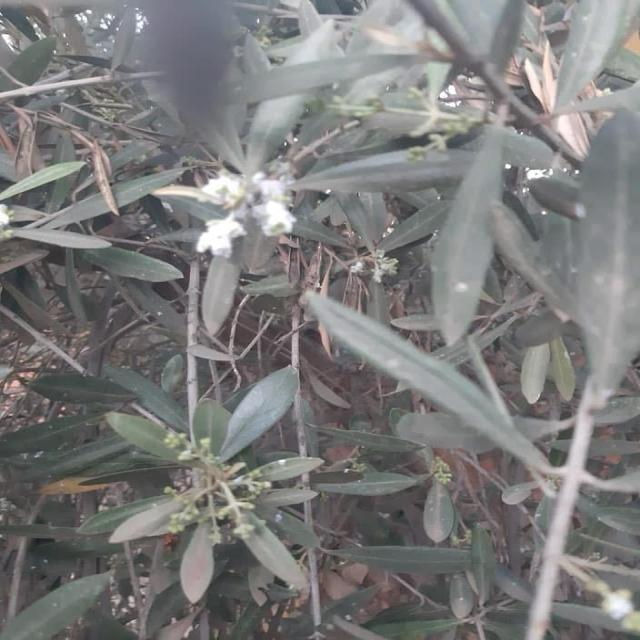Psyllid: (195, 163, 296, 257)
